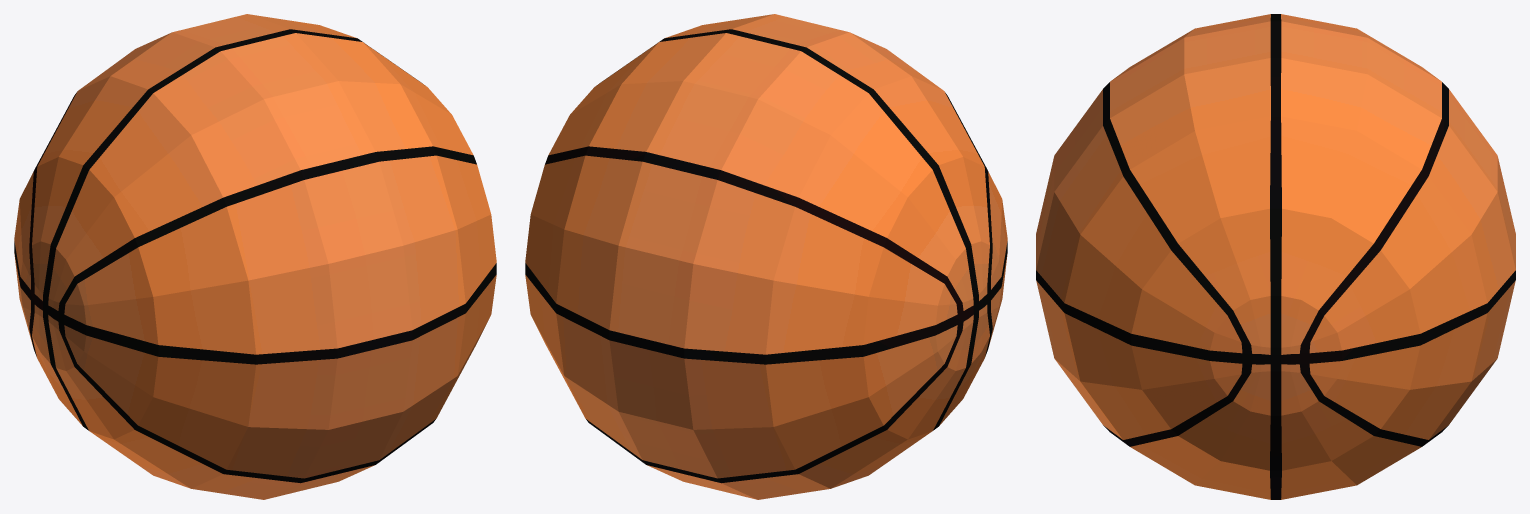
Rendered from Basketball.glb.
3 renders of one model, left to right at view 1: azimuth 30°, elevation 25°; view 2: azimuth 150°, elevation 25°; view 3: azimuth 270°, elevation 25°, orthographic.
Parts seen in each view (by area): view 1: Sphere; view 2: Sphere; view 3: Sphere.
Part boxes in pixels (bbox=[...]): Sphere: bbox=[14, 14, 496, 499]; Sphere: bbox=[525, 14, 1007, 499]; Sphere: bbox=[1036, 14, 1515, 499].
Size of the model in its own units: 1.11 by 1.09 by 1.09.
Materials: 1 (1 with a texture image).
